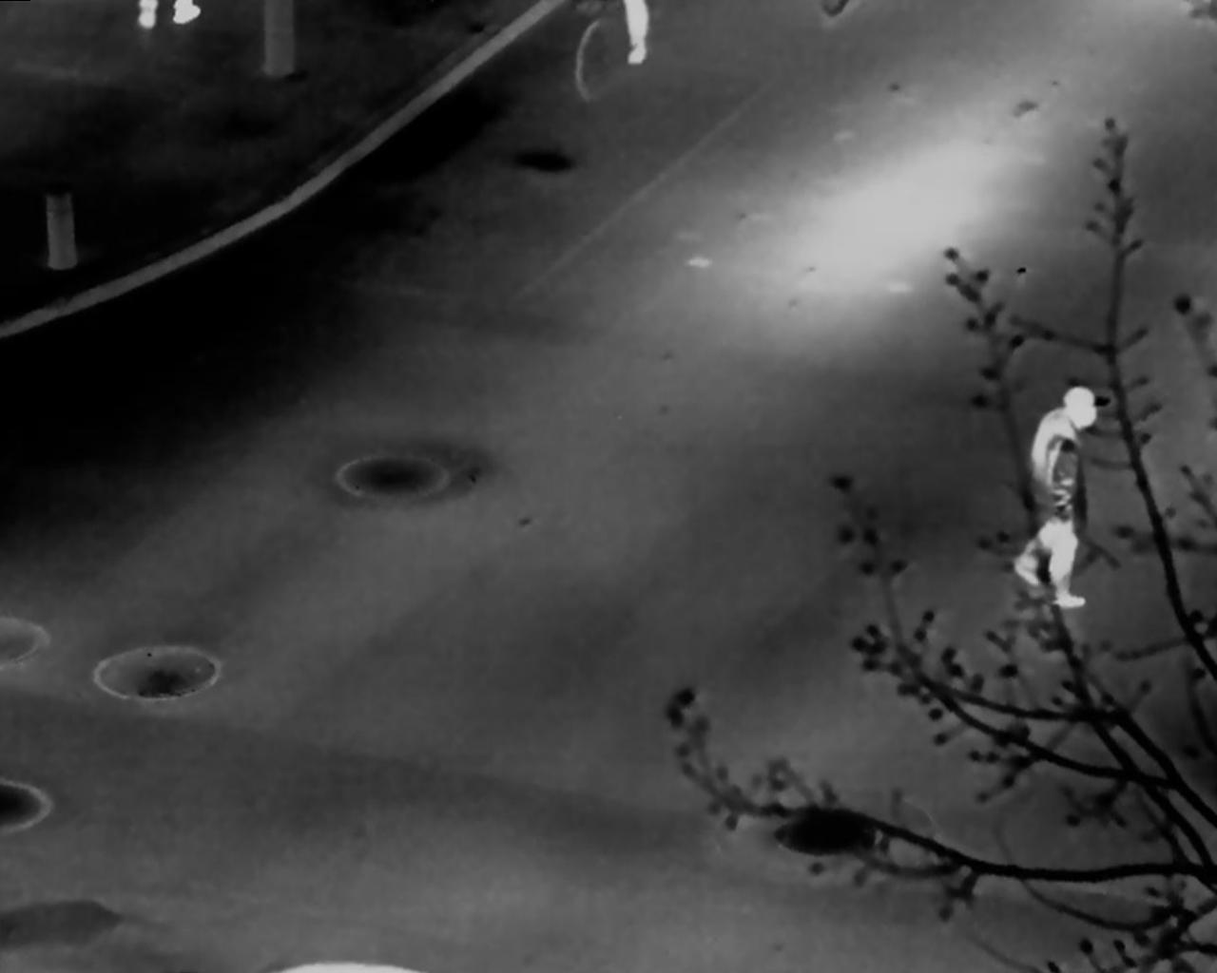person: (1014, 385, 1099, 609)
